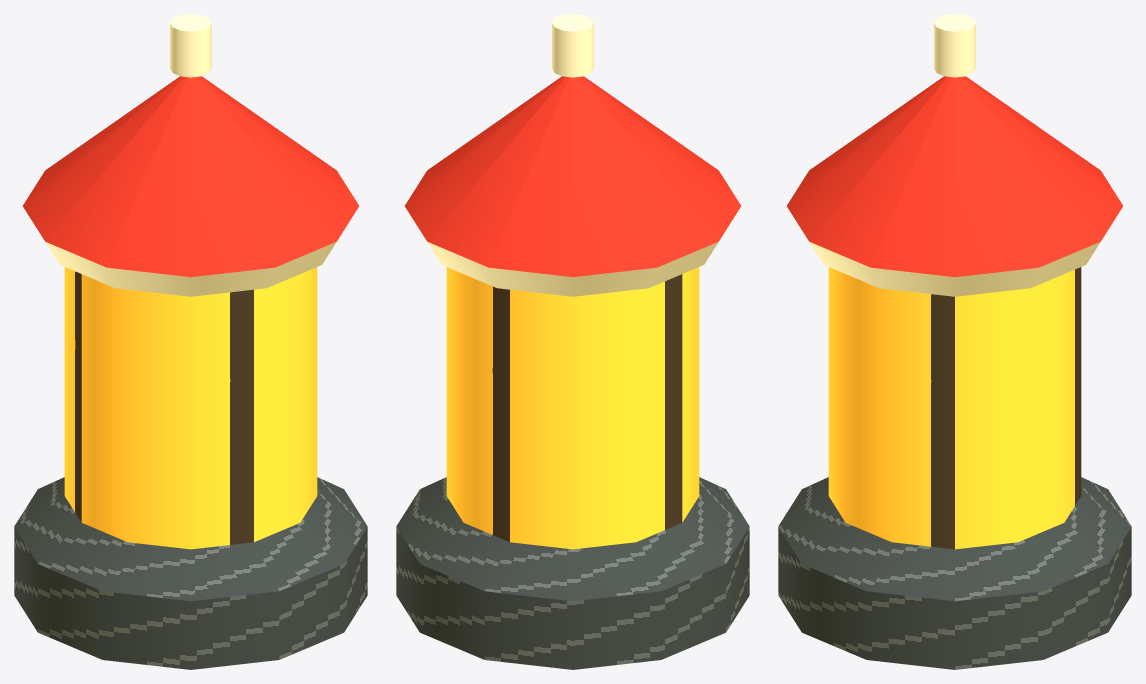
The model's file is lantern.gltf.
3 renders of one model, left to right at view 1: azimuth 30°, elevation 25°; view 2: azimuth 150°, elevation 25°; view 3: azimuth 270°, elevation 25°, orthographic.
Visible parts, largest first — view 1: Lantern; view 2: Lantern; view 3: Lantern.
Boxes of the visible parts, left/top/right/bottom form: Lantern: left=14, top=14, right=367, bottom=669; Lantern: left=396, top=14, right=749, bottom=669; Lantern: left=778, top=14, right=1131, bottom=669.
Bounding box in the file's own units: 0.84 × 1.5 × 0.84.
Materials: 1 (1 with a texture image).
